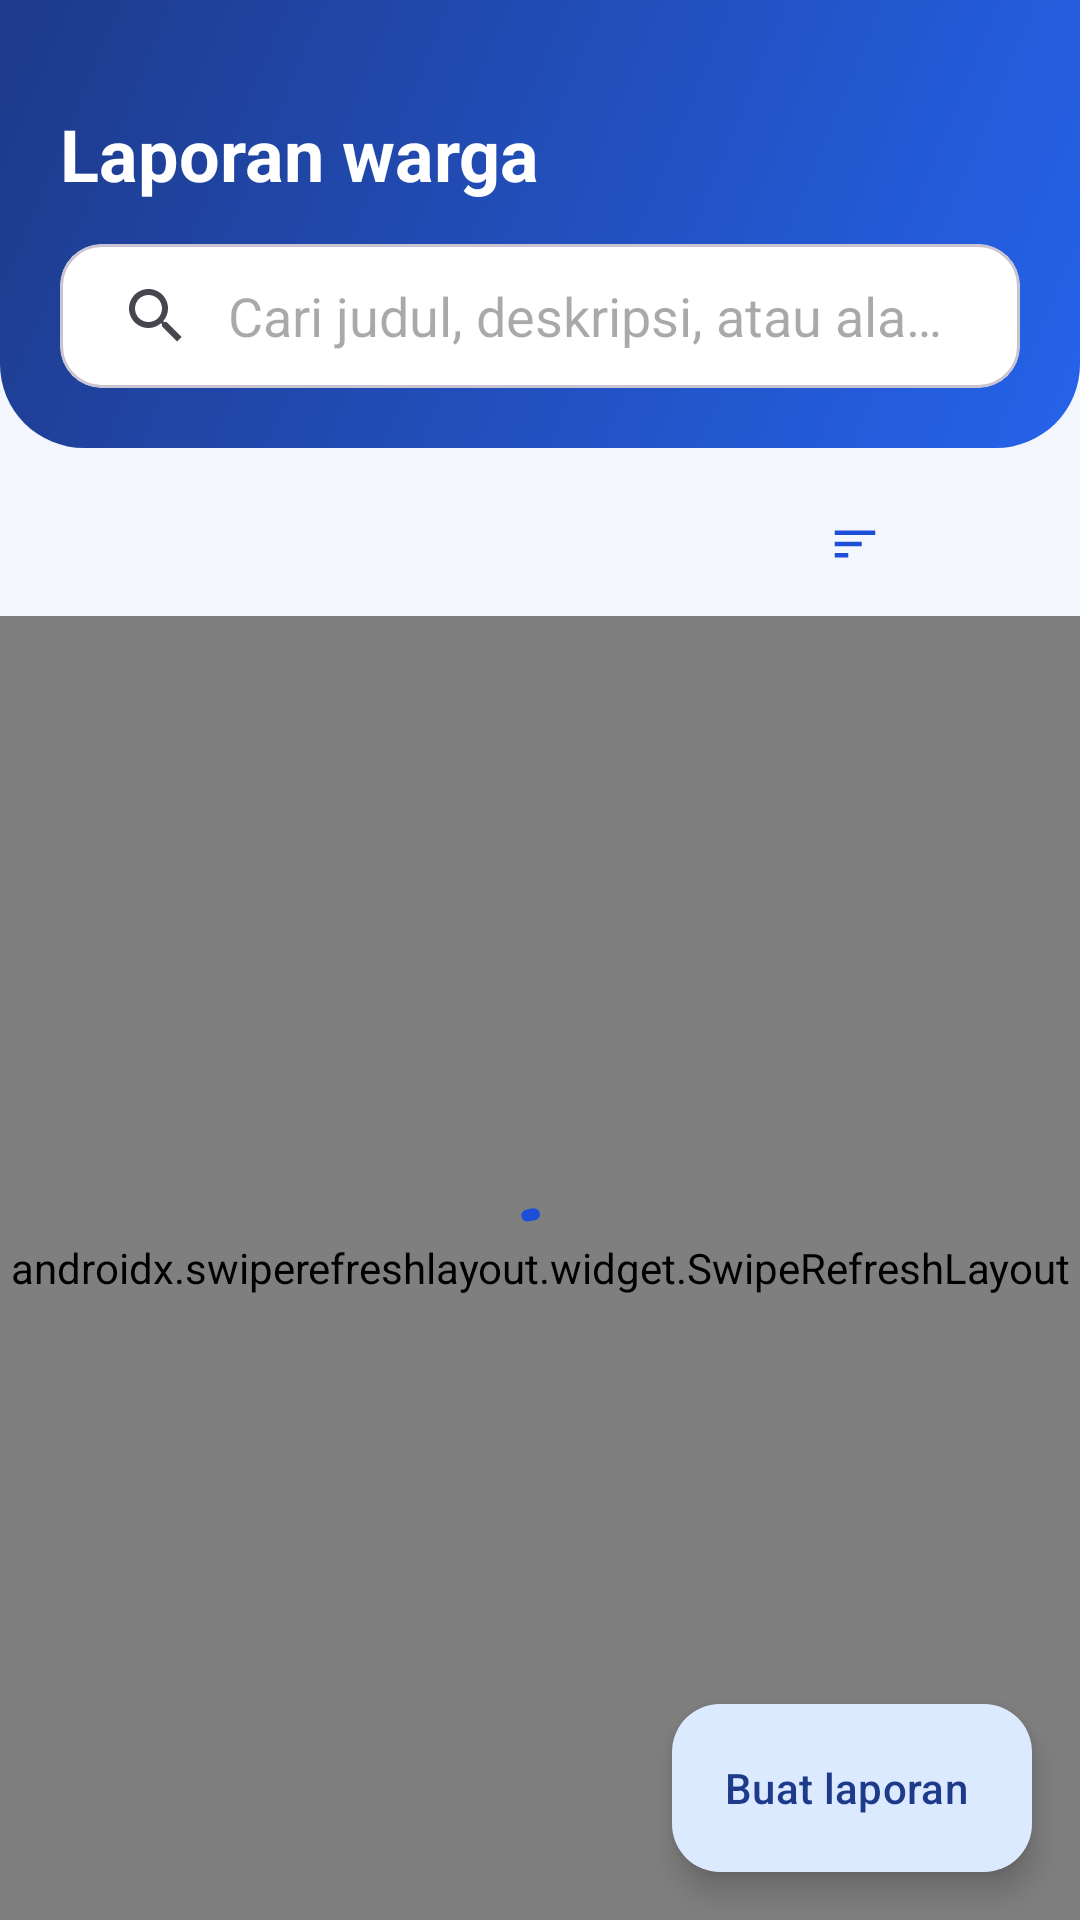

Where icons sit on this 1080px×1920px app screen, as rect(x1, y1, x2, y2):
sort: rect(834, 530, 876, 558)
